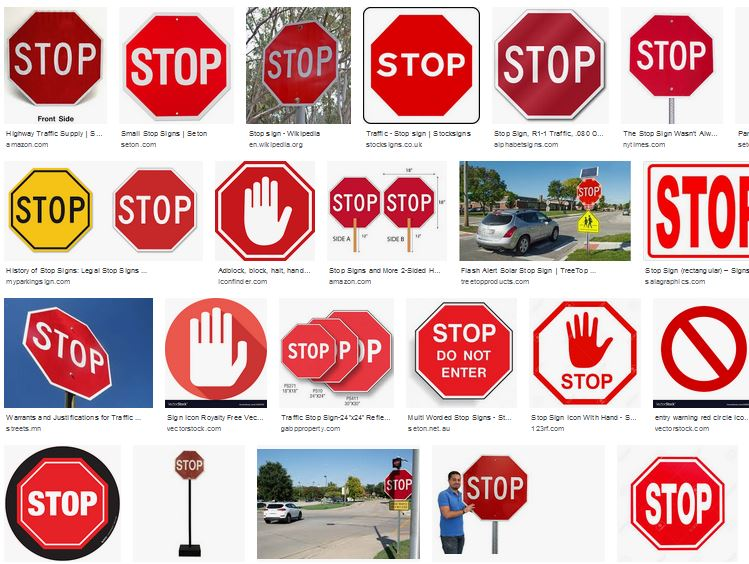stop: (367, 13, 472, 118), (126, 15, 229, 122), (13, 457, 114, 555), (630, 454, 729, 552), (19, 304, 111, 399), (111, 164, 199, 254), (631, 17, 720, 102), (4, 8, 82, 98), (163, 16, 230, 120), (257, 26, 339, 105), (22, 305, 110, 378), (498, 11, 606, 69), (496, 9, 604, 67), (541, 35, 611, 123), (247, 29, 335, 94), (126, 33, 204, 106), (370, 62, 473, 117), (498, 39, 598, 95), (21, 351, 114, 403), (114, 168, 162, 250), (67, 316, 112, 399), (134, 181, 192, 237), (116, 168, 198, 207), (289, 35, 340, 97), (57, 46, 105, 99)
